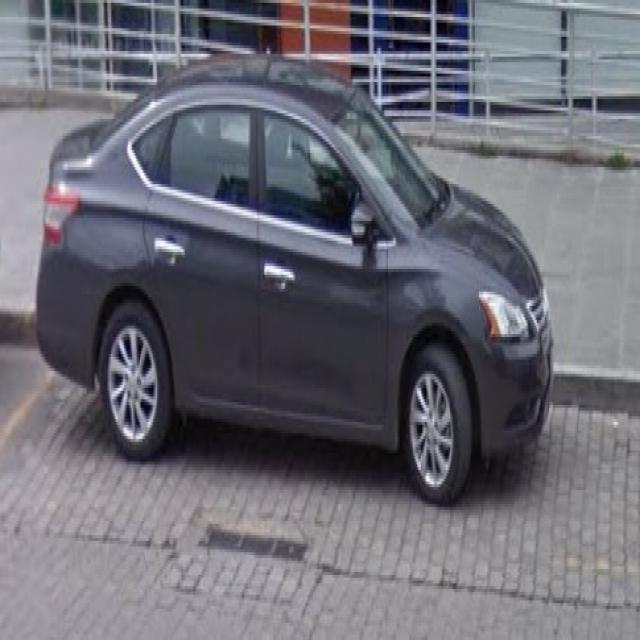car: (35, 51, 556, 506)
